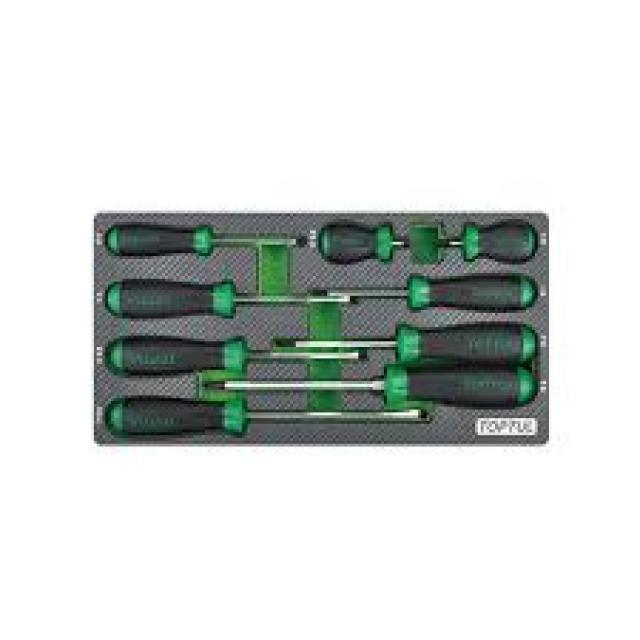screwdriver: (102, 392, 436, 443), (208, 361, 540, 404), (99, 327, 367, 378), (273, 320, 543, 366), (304, 270, 544, 316), (102, 277, 356, 320), (100, 222, 308, 259), (430, 216, 540, 265), (312, 216, 416, 265)
